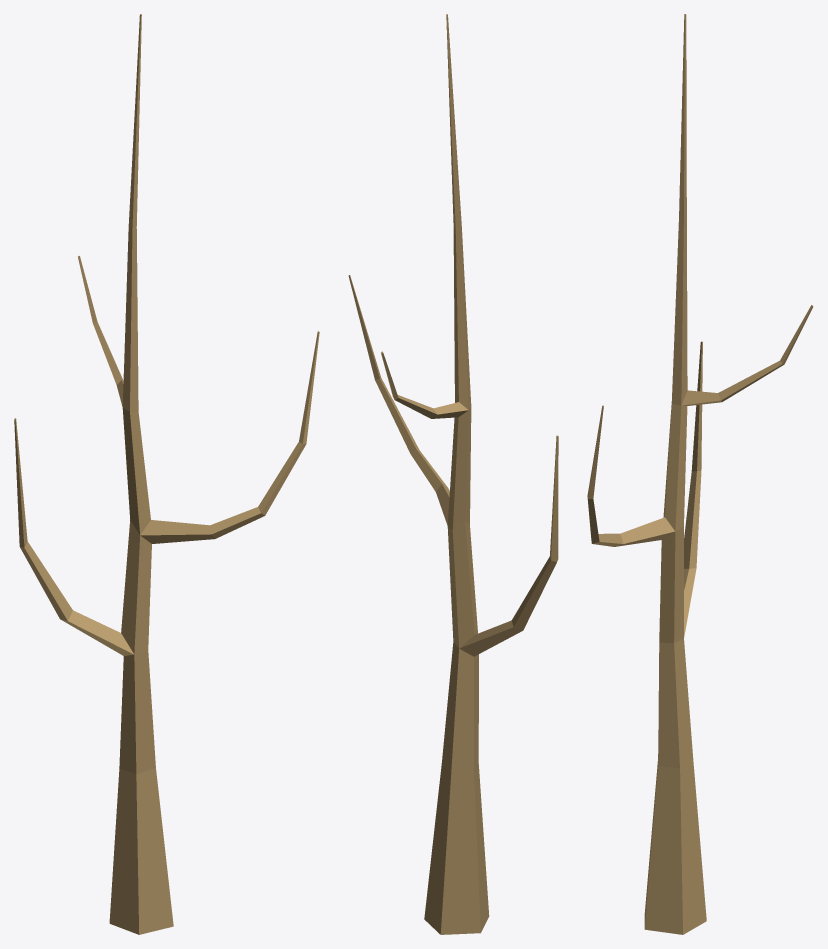
Rendered from Random_Tree_NoLeaves_m_BT_09.fbx.
The picture shows the model from 3 angles, left to right: view 1: azimuth 30°, elevation 25°; view 2: azimuth 150°, elevation 25°; view 3: azimuth 270°, elevation 25°; orthographic projection.
Visible parts, largest first — view 1: Random_Tree_NoLeaves_m_BT_09; view 2: Random_Tree_NoLeaves_m_BT_09; view 3: Random_Tree_NoLeaves_m_BT_09.
Part boxes in pixels (box(x1,y1,x2,y2)): Random_Tree_NoLeaves_m_BT_09: box(14, 14, 319, 934); Random_Tree_NoLeaves_m_BT_09: box(348, 14, 558, 934); Random_Tree_NoLeaves_m_BT_09: box(587, 14, 813, 934).
Size of the model in its own units: 263 by 885 by 200.
